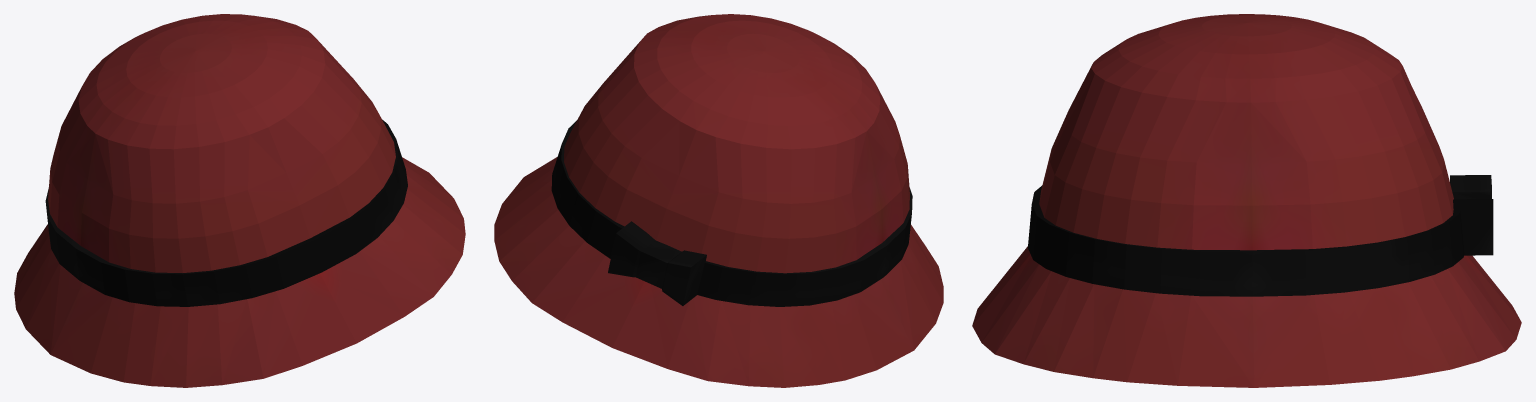
Rendered from CLOCHE.fbx.
3 views of the same model, side by side, from view 1: azimuth 30°, elevation 25°; view 2: azimuth 150°, elevation 25°; view 3: azimuth 270°, elevation 25° (orthographic). The views are drawn at different scales.
Parts seen in each view (by area): view 1: CLOCHE; view 2: CLOCHE; view 3: CLOCHE.
Boxes of the visible parts, bbox=[...] form: CLOCHE: bbox=[14, 14, 465, 387]; CLOCHE: bbox=[494, 14, 943, 387]; CLOCHE: bbox=[972, 14, 1521, 387].
Size of the model in its own units: 36.46 by 24.5 by 36.74.
